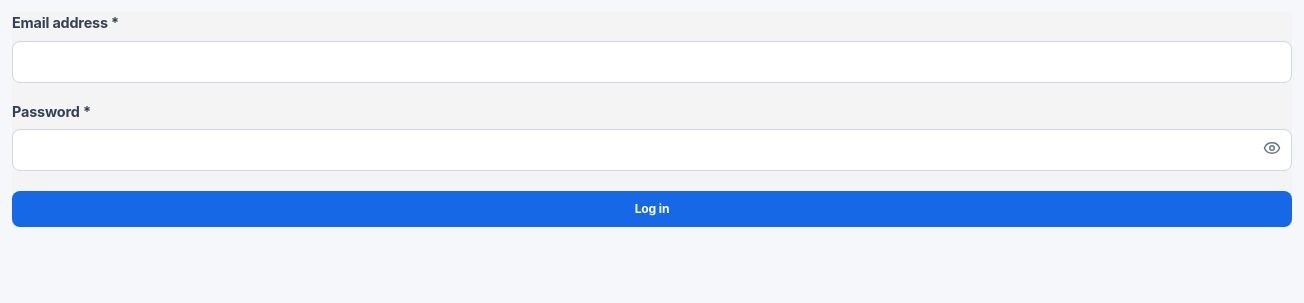
Test: authentication form behaviour › shows a rejected login error and preserves entered values
Step 1. Type "person@example.com" into the field labelled "Email address *" → (652, 62), box left=12, top=41, right=1292, bottom=83
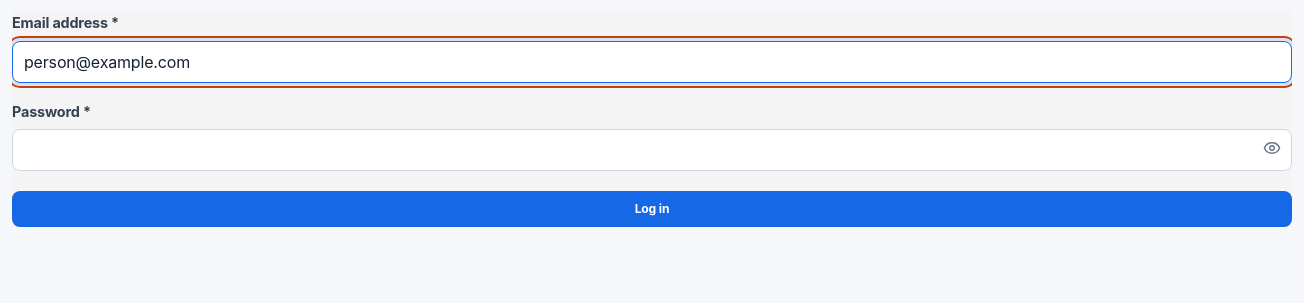
Step 2. Type "wrong-password" into the password field labelled "Password *" → (652, 150), box left=12, top=129, right=1292, bottom=171
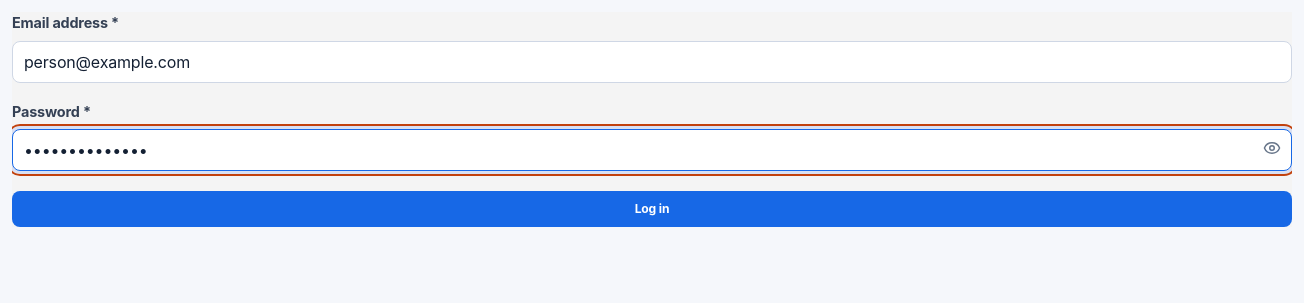
Step 3. Click the button "Log in" → (652, 209), box left=12, top=191, right=1292, bottom=227
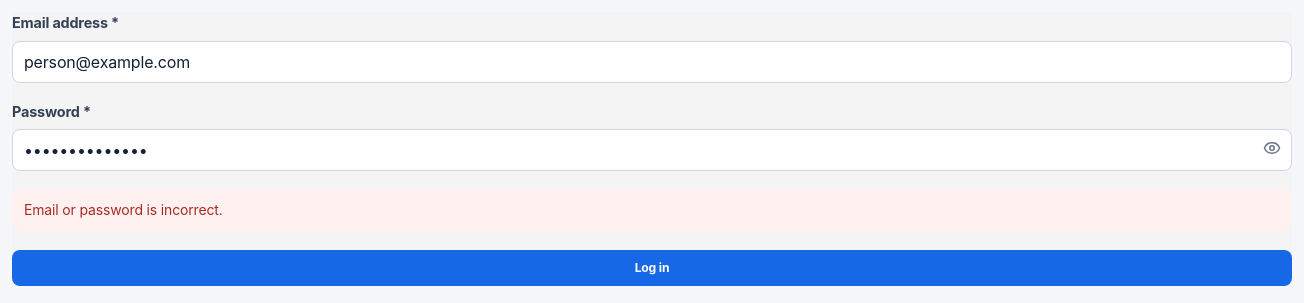
Now the message reads "Email or password is incorrect.", box left=24, top=201, right=223, bottom=218
